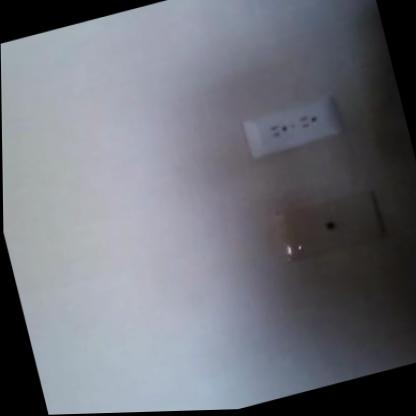OUTLET: (244, 96, 340, 158)
